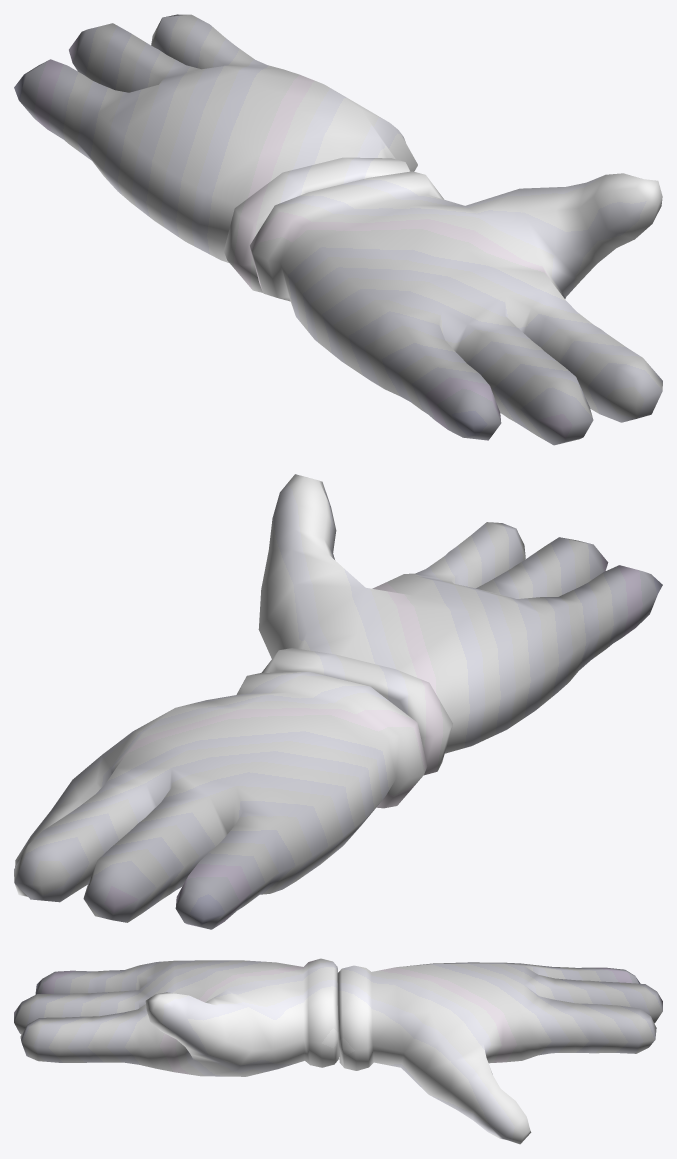
Rendered from Player_Hands.fbx.
3 renders of one model, top to bottom at view 1: azimuth 30°, elevation 25°; view 2: azimuth 150°, elevation 25°; view 3: azimuth 270°, elevation 25°, orthographic. The views are drawn at different scales.
Parts seen in each view (by area): view 1: Player_Hand_L, Player_Hand_R; view 2: Player_Hand_R, Player_Hand_L; view 3: Player_Hand_R, Player_Hand_L.
Part boxes in pixels (<box>): Player_Hand_L: <box>250,171,662,445</box>; Player_Hand_R: <box>14,14,417,292</box>; Player_Hand_R: <box>14,672,427,929</box>; Player_Hand_L: <box>258,474,662,775</box>; Player_Hand_R: <box>337,962,662,1144</box>; Player_Hand_L: <box>14,958,339,1076</box>.
Size of the model in its own units: 3 by 2.17 by 8.69.
